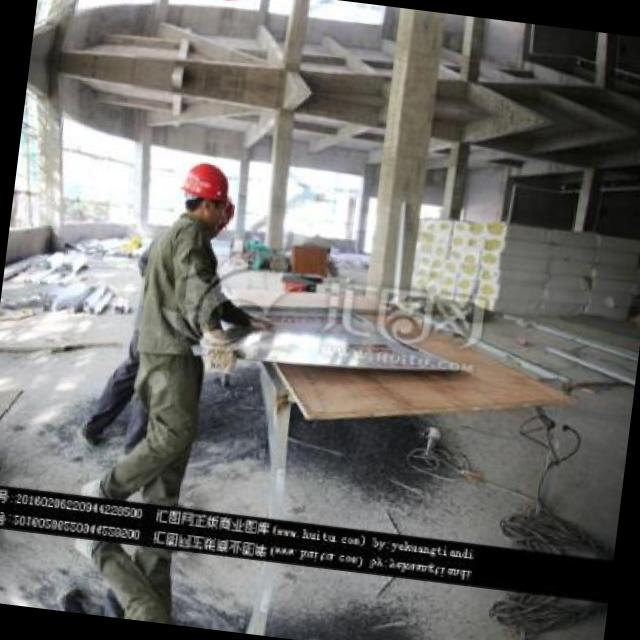helmet: (178, 157, 234, 226), (195, 195, 234, 242), (204, 0, 257, 6)
